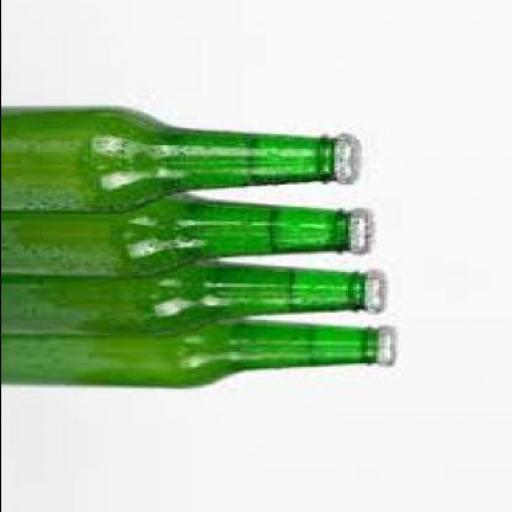glass: (3, 110, 333, 216), (2, 196, 350, 277), (2, 320, 380, 391), (3, 261, 361, 335)
metal: (347, 212, 378, 257), (334, 136, 360, 188), (364, 273, 388, 315), (381, 329, 403, 369)
